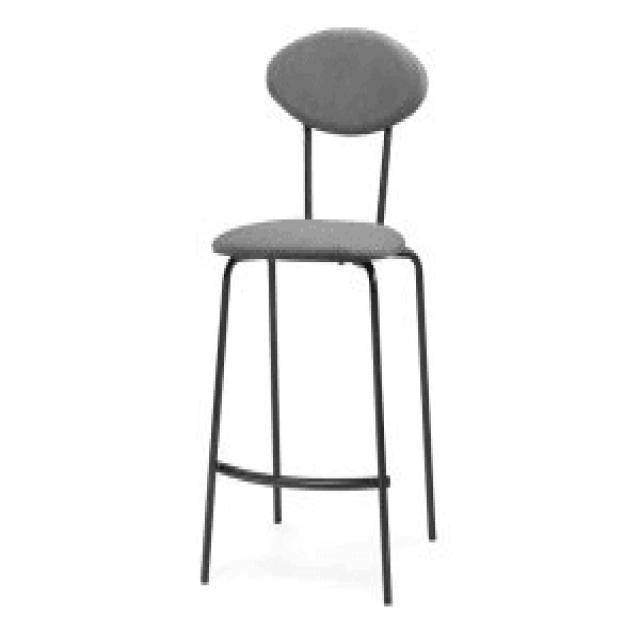chair: (198, 22, 440, 606)
